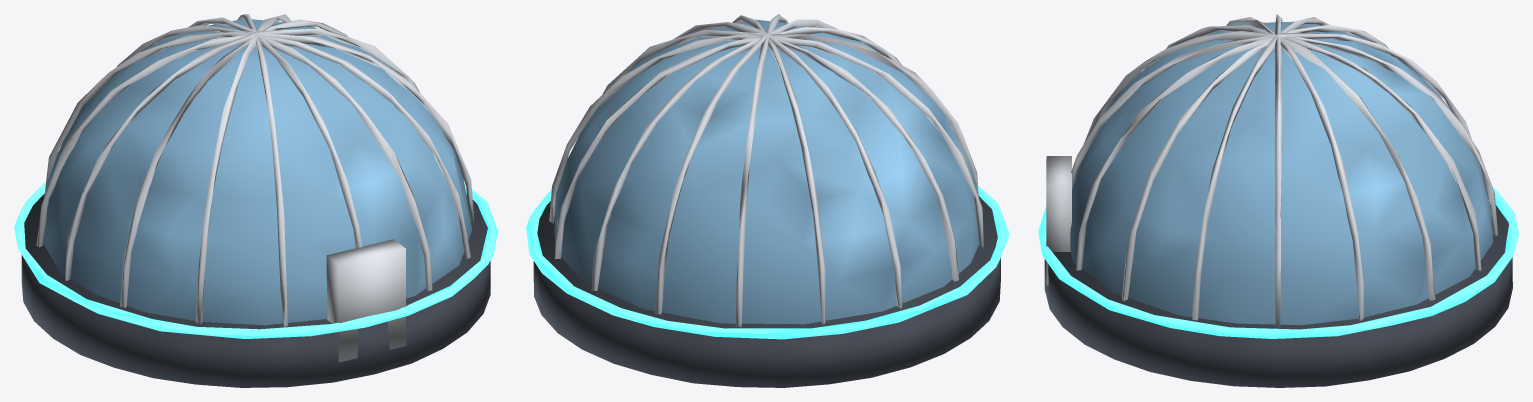
Rendered from sp_dome_lod.glb.
3 renders of one model, left to right at view 1: azimuth 30°, elevation 25°; view 2: azimuth 150°, elevation 25°; view 3: azimuth 270°, elevation 25°, orthographic.
Parts seen in each view (by area): view 1: sp_dome_lod; view 2: sp_dome_lod; view 3: sp_dome_lod.
Part boxes in pixels (bbox=[...]): sp_dome_lod: bbox=[14, 14, 497, 387]; sp_dome_lod: bbox=[526, 14, 1009, 387]; sp_dome_lod: bbox=[1038, 14, 1518, 387].
Bounding box in the file's own units: 9.44 × 5.53 × 9.42.
